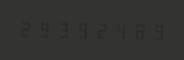eight: (125, 20, 142, 40)
four: (107, 20, 124, 40)
nine: (143, 20, 160, 41), (35, 19, 52, 39), (71, 19, 88, 39)
three: (53, 19, 70, 39)
two: (89, 19, 106, 40), (17, 18, 34, 38)
